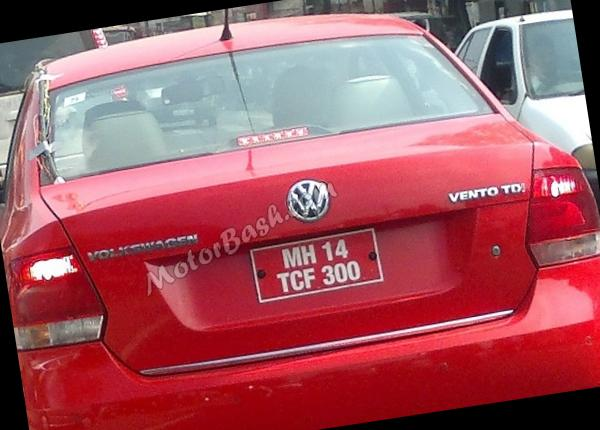plate: (246, 218, 389, 311)
